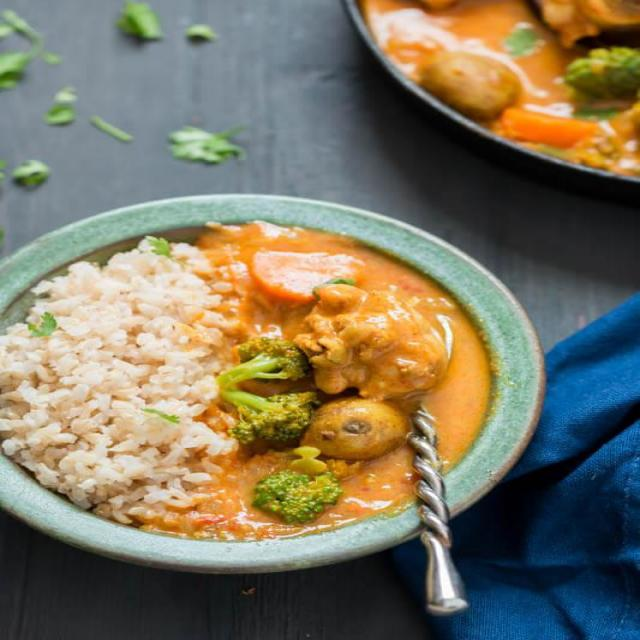chicken: (221, 218, 502, 536), (382, 0, 640, 155)
rice: (0, 247, 207, 515)
